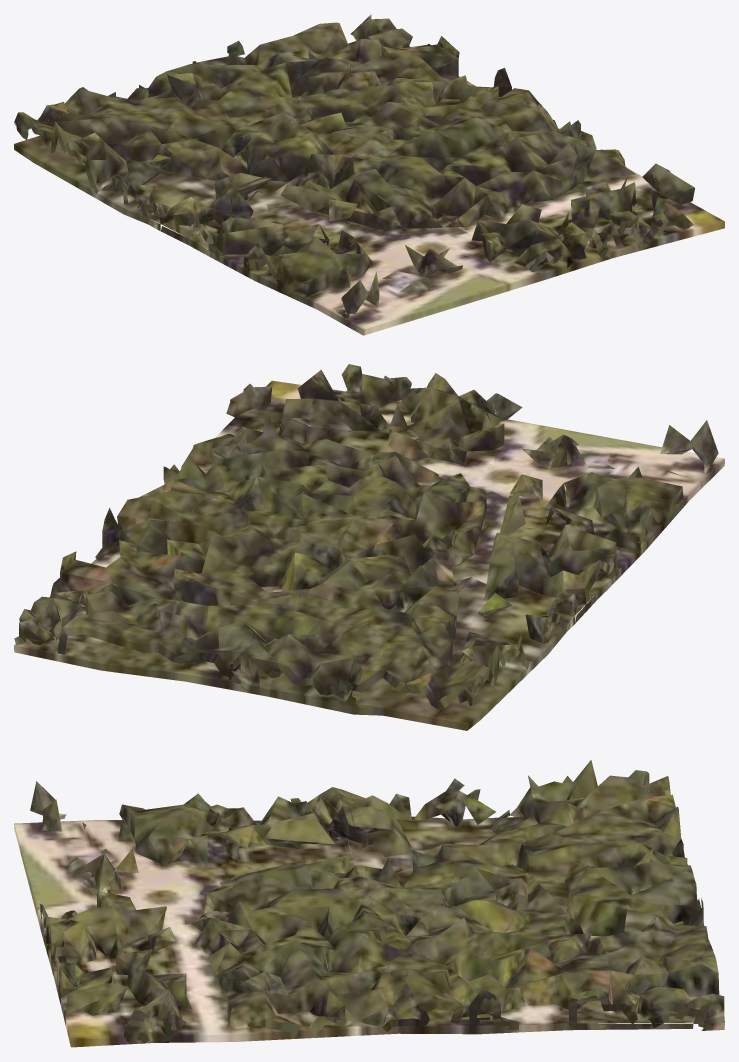
The picture shows the model from 3 angles, top to bottom: view 1: azimuth 30°, elevation 25°; view 2: azimuth 150°, elevation 25°; view 3: azimuth 270°, elevation 25°; orthographic projection. The views are drawn at different scales.
Visible parts, largest first — view 1: Mesh_0; view 2: Mesh_0; view 3: Mesh_0.
Part boxes in pixels (bbox=[...]): Mesh_0: bbox=[14, 14, 724, 335]; Mesh_0: bbox=[14, 364, 724, 730]; Mesh_0: bbox=[14, 760, 724, 1047].
Size of the model in its own units: 266 by 38.48 by 330.
Materials: 2 (2 with a texture image).
